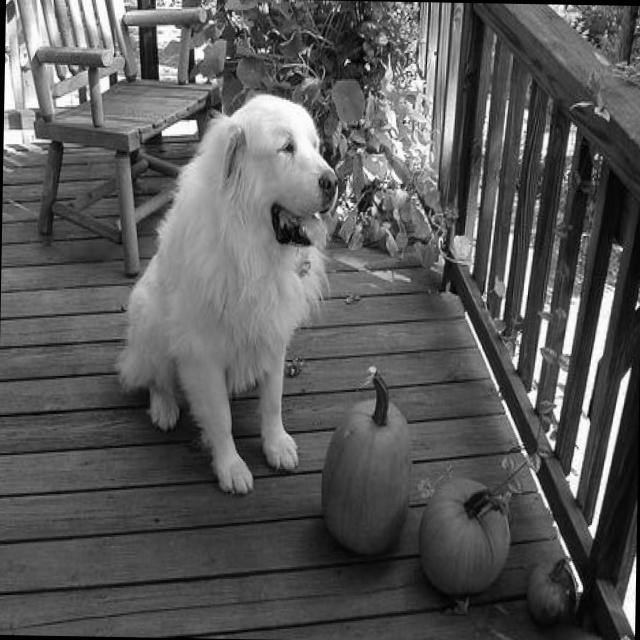sitting: (103, 84, 342, 501)
